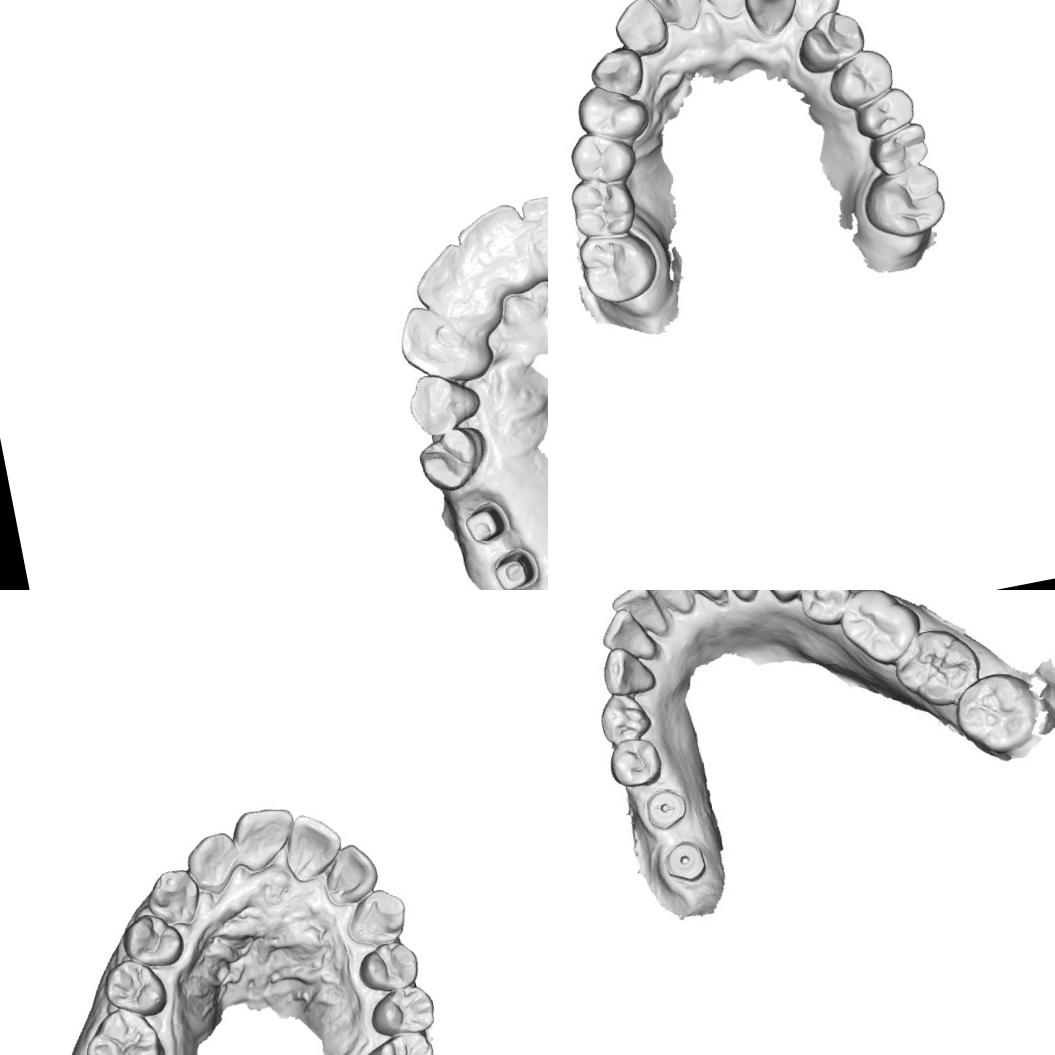abutment: (485, 544, 542, 590), (460, 497, 512, 547)
canine: (400, 365, 482, 440), (340, 883, 412, 951), (140, 864, 205, 932), (584, 41, 650, 106), (594, 638, 659, 700), (780, 0, 845, 35), (708, 590, 768, 607)
implant: (662, 835, 704, 884)
implant_minus: (645, 786, 688, 829)
incisor: (390, 296, 482, 389), (406, 236, 491, 330), (448, 196, 530, 282), (226, 802, 303, 876), (278, 806, 348, 884), (316, 839, 382, 909), (180, 829, 244, 899), (607, 0, 673, 62), (600, 607, 658, 663), (607, 590, 667, 644), (636, 0, 709, 39), (740, 0, 804, 41), (517, 186, 548, 268), (690, 0, 770, 25), (637, 590, 693, 621), (673, 590, 726, 612)
molar: (944, 663, 1042, 759), (887, 621, 989, 713), (855, 158, 954, 246), (573, 222, 664, 310), (831, 590, 926, 671), (563, 170, 641, 245), (76, 999, 172, 1055), (861, 117, 936, 180), (354, 1028, 442, 1055)
premolar: (411, 420, 496, 496), (788, 3, 870, 78), (571, 76, 652, 148), (821, 42, 900, 115), (98, 951, 170, 1024), (563, 123, 640, 191), (117, 906, 188, 974), (365, 982, 438, 1042), (352, 936, 424, 996), (849, 83, 920, 142), (596, 686, 654, 746), (606, 734, 665, 792), (792, 590, 852, 631), (756, 590, 812, 607)
